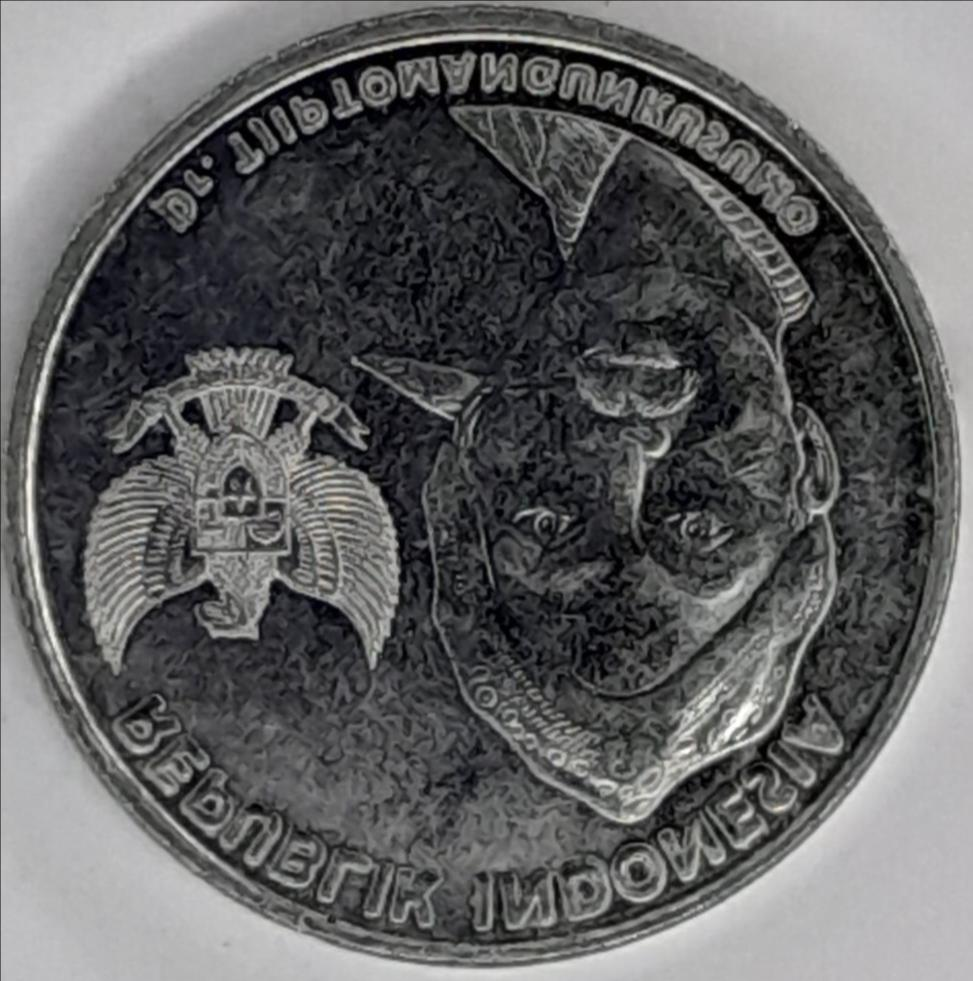coin_200_e2016: (0, 17, 973, 981)
